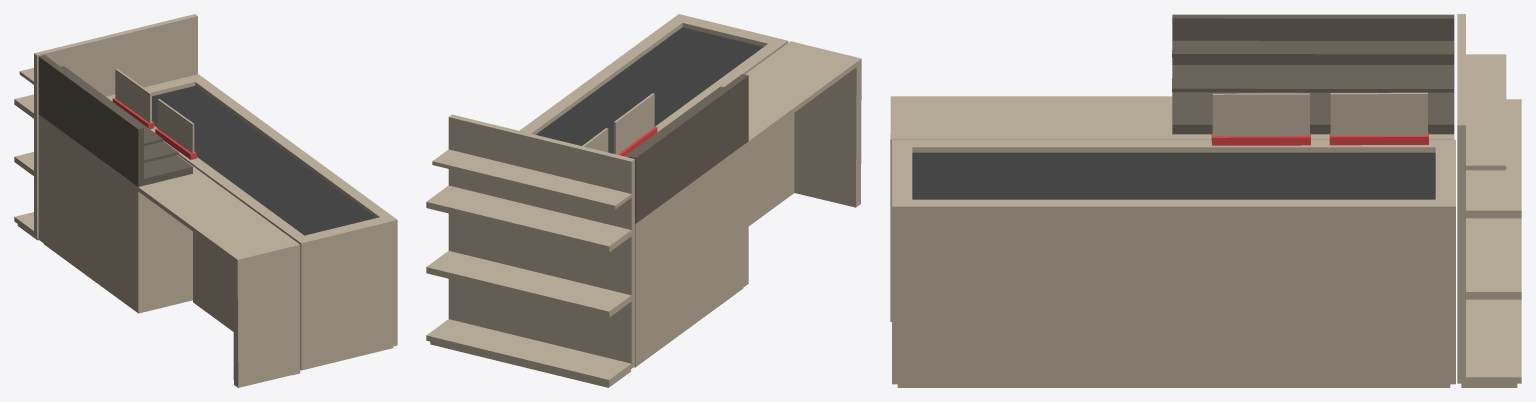
The model's file is Kassetresen.fbx.
3 renders of one model, left to right at view 1: azimuth 30°, elevation 25°; view 2: azimuth 150°, elevation 25°; view 3: azimuth 270°, elevation 25°, orthographic. The views are drawn at different scales.
Parts seen in each view (by area): view 1: Kassentresen, kassentrenner02, kassentrenner01; view 2: Kassentresen, kassentrenner02, kassentrenner01; view 3: Kassentresen, kassentrenner02, kassentrenner01.
Boxes of the visible parts, x1,y1,x2,y2 form: Kassentresen: [14, 14, 397, 387]; kassentrenner02: [155, 99, 196, 159]; kassentrenner01: [112, 68, 154, 129]; Kassentresen: [426, 14, 861, 387]; kassentrenner02: [613, 93, 657, 156]; kassentrenner01: [582, 128, 608, 152]; Kassentresen: [890, 14, 1521, 387]; kassentrenner02: [1211, 93, 1310, 145]; kassentrenner01: [1329, 92, 1428, 145].
Bounding box in the file's own units: 836 × 927 × 2005.
